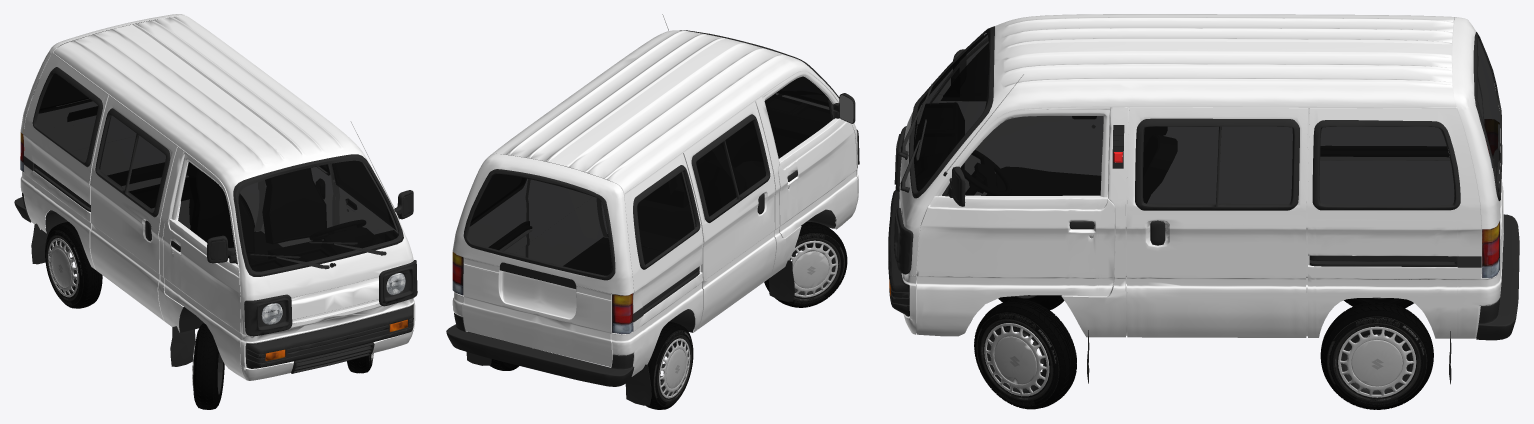
The model's file is kei_van_lod0.glb.
The picture shows the model from 3 angles, left to right: view 1: azimuth 30°, elevation 25°; view 2: azimuth 150°, elevation 25°; view 3: azimuth 270°, elevation 25°; orthographic projection. The views are drawn at different scales.
Visible parts, largest first — view 1: Object_124, Object_15, Object_116, Object_5, Object_122, Object_9, Object_70; view 2: Object_124, Object_15, Object_116, Object_122, Object_5, Object_9, Object_64; view 3: Object_124, Object_116, Object_15, Object_5, Object_9, Object_64.
Boxes of the visible parts, <box> form: Object_124: <box>20,14,415,380</box>; Object_15: <box>14,19,417,394</box>; Object_116: <box>36,73,398,271</box>; Object_5: <box>45,196,373,409</box>; Object_122: <box>23,156,280,367</box>; Object_9: <box>48,238,373,387</box>; Object_70: <box>261,273,405,324</box>; Object_124: <box>452,30,858,376</box>; Object_15: <box>446,30,859,405</box>; Object_116: <box>468,76,832,275</box>; Object_122: <box>565,200,836,332</box>; Object_5: <box>490,222,847,409</box>; Object_9: <box>659,240,838,398</box>; Object_64: <box>452,251,633,334</box>; Object_124: <box>899,14,1503,338</box>; Object_116: <box>913,33,1500,204</box>; Object_15: <box>888,26,1519,394</box>; Object_5: <box>974,295,1433,409</box>; Object_9: <box>984,323,1416,397</box>; Object_64: <box>1482,119,1499,278</box>.
Size of the model in its own units: 1.62 by 1.88 by 3.3.
Materials: 16 (4 with a texture image).
